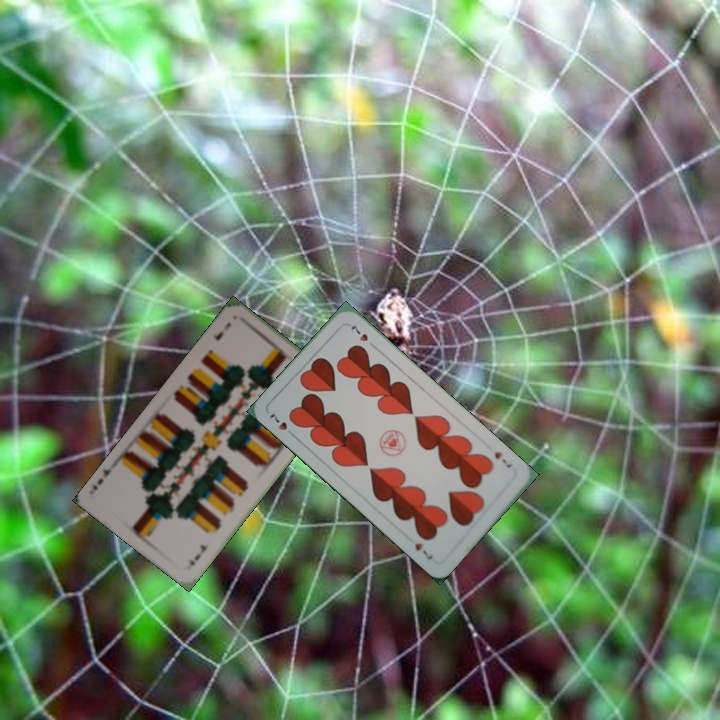E7: (184, 539, 211, 569), (209, 318, 234, 343)
H7: (265, 410, 298, 440), (490, 448, 514, 471)
